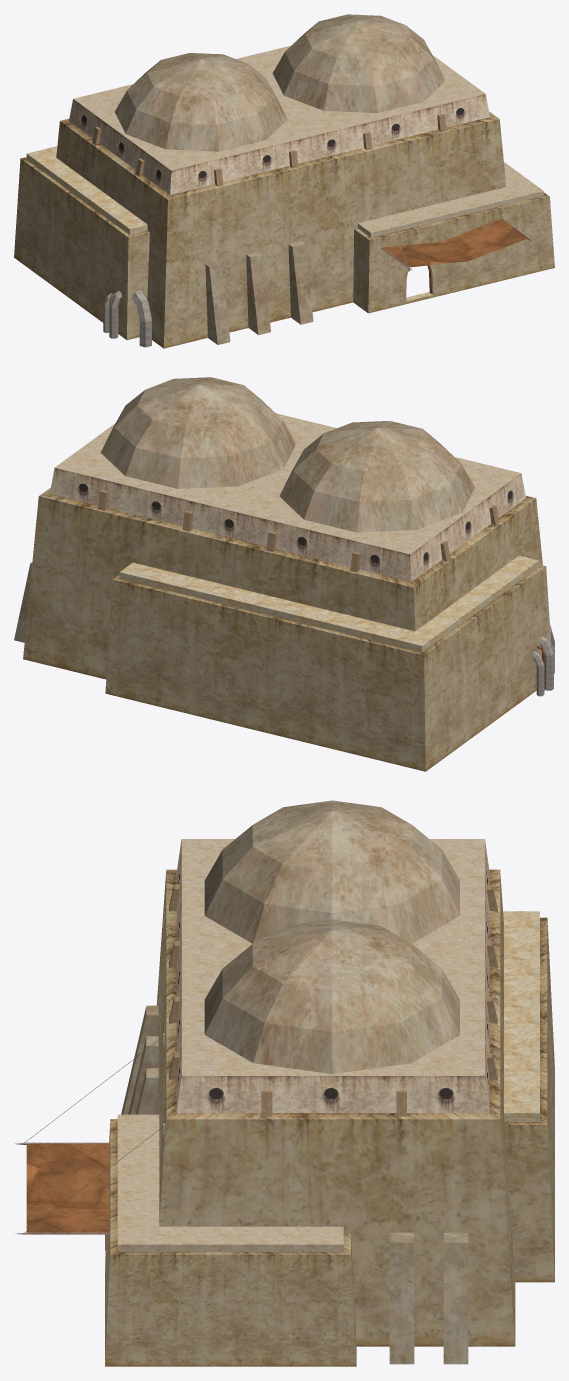
File: thm_tato_imprv_building_s03_r0_mesh_l1.fbx
The picture shows the model from 3 angles, top to bottom: view 1: azimuth 30°, elevation 25°; view 2: azimuth 150°, elevation 25°; view 3: azimuth 270°, elevation 25°; orthographic projection. The views are drawn at different scales.
Parts seen in each view (by area): view 1: mesh_node; view 2: mesh_node; view 3: mesh_node.
Boxes of the visible parts, x1,y1,x2,y2 form: mesh_node: [14, 14, 554, 348]; mesh_node: [14, 377, 554, 771]; mesh_node: [15, 800, 554, 1366].
Size of the model in its own units: 32.28 by 17.22 by 24.3.
